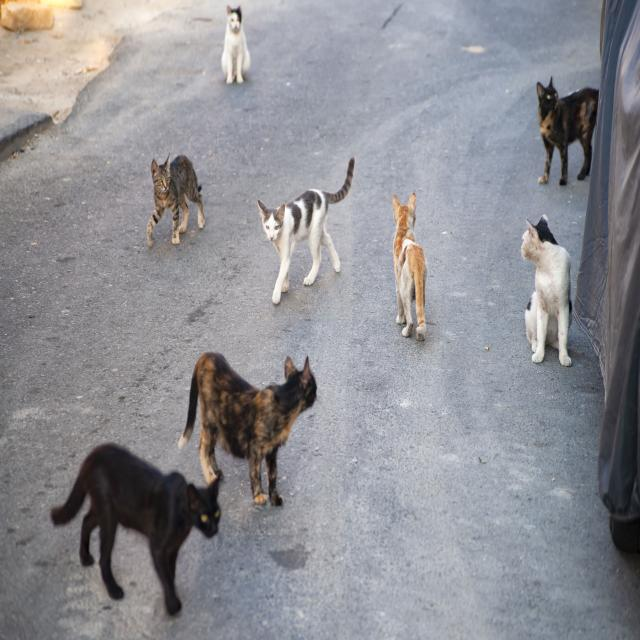cat: (51, 444, 220, 615), (178, 352, 316, 506), (258, 158, 355, 306), (521, 216, 572, 368), (536, 77, 599, 186), (148, 156, 204, 248), (392, 193, 426, 341), (221, 6, 250, 84)
